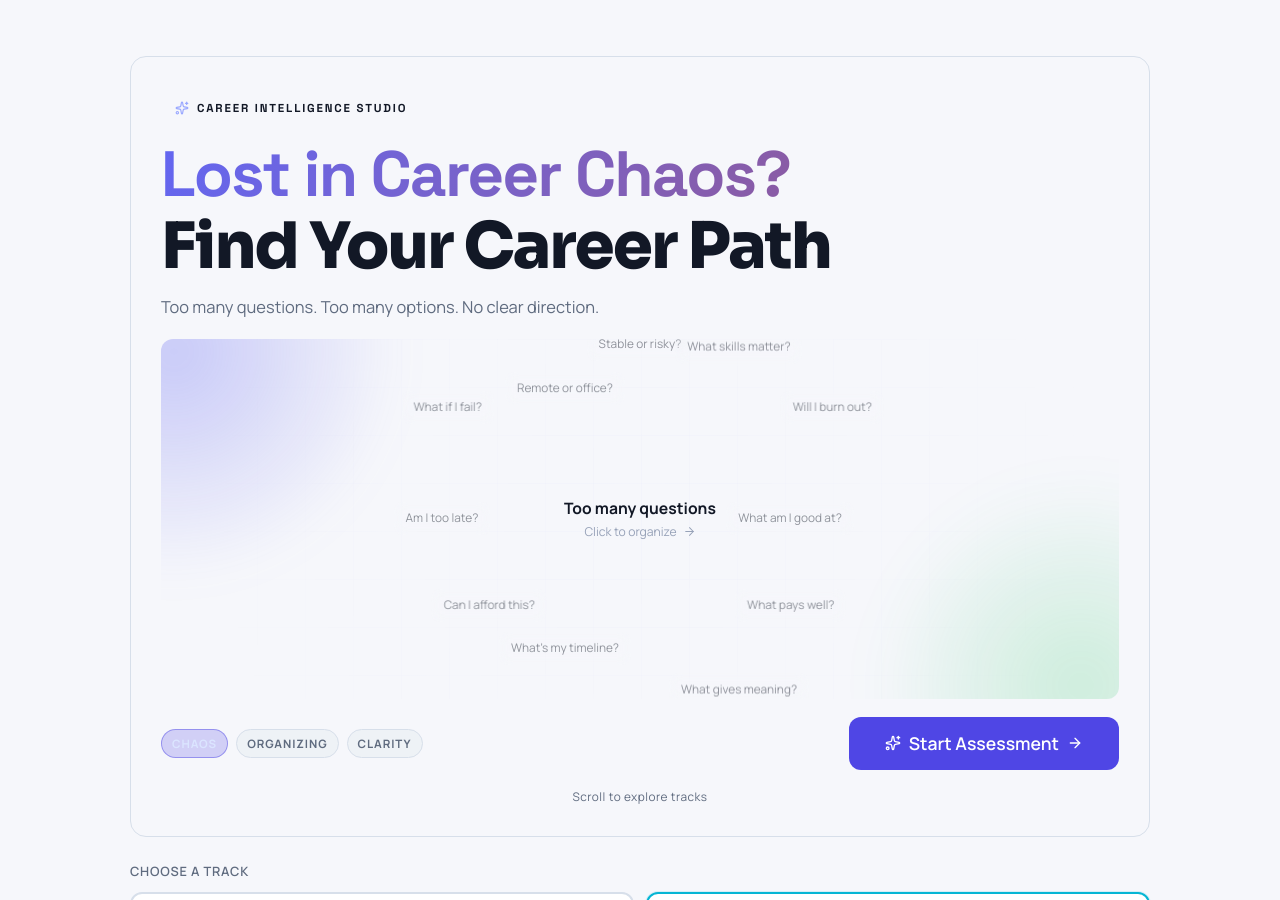
Home › shows error message when session creation fails
Click the button "Start Assessment" at x=984, y=743, box 849,716 -> 1119,770
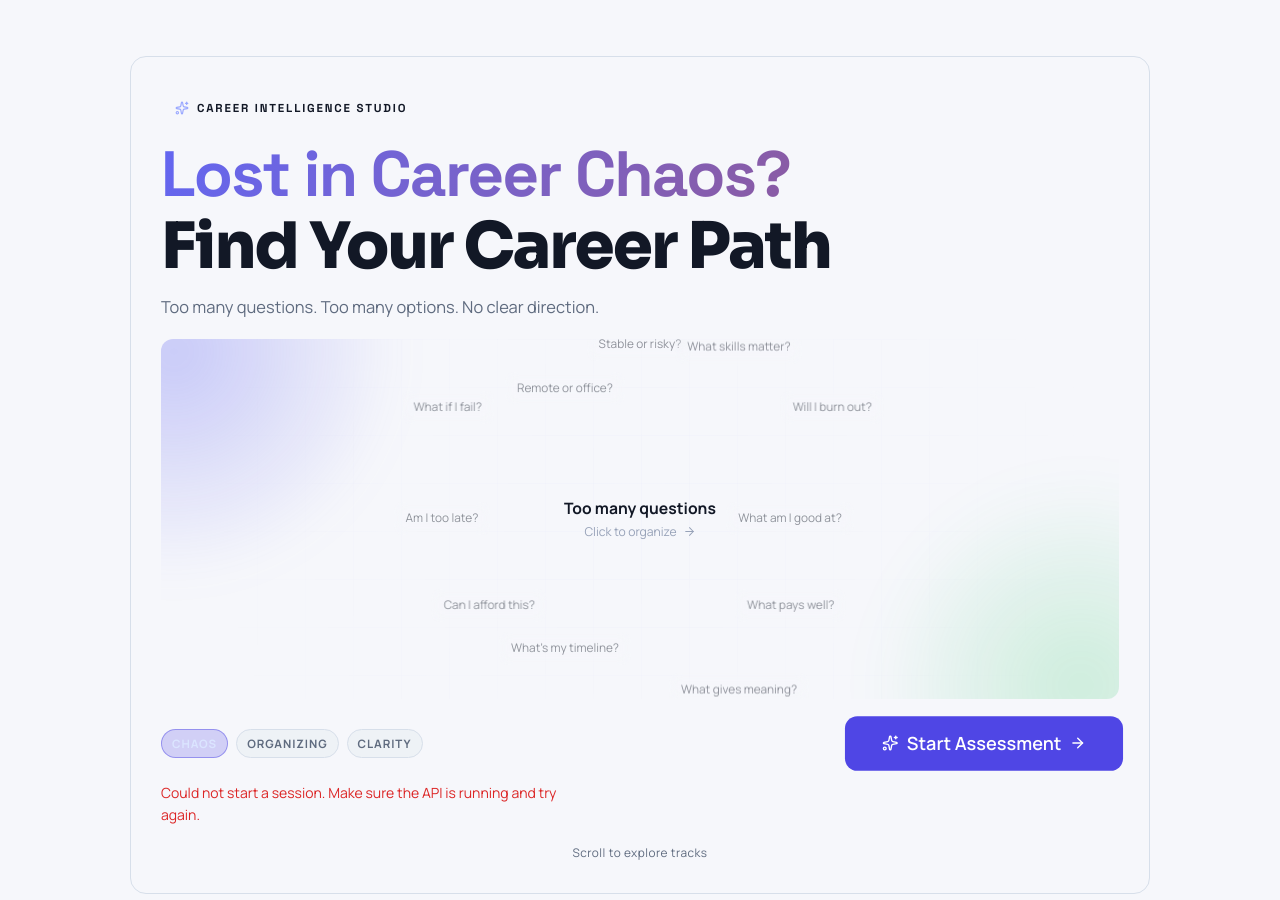
Expected: the text "Could not start a session" is shown, 161,782 -> 556,824
